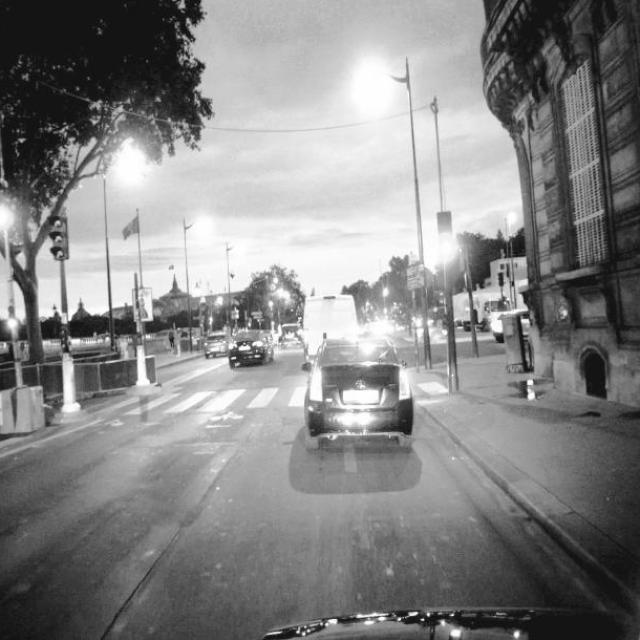Truck: (452, 292, 511, 332)
